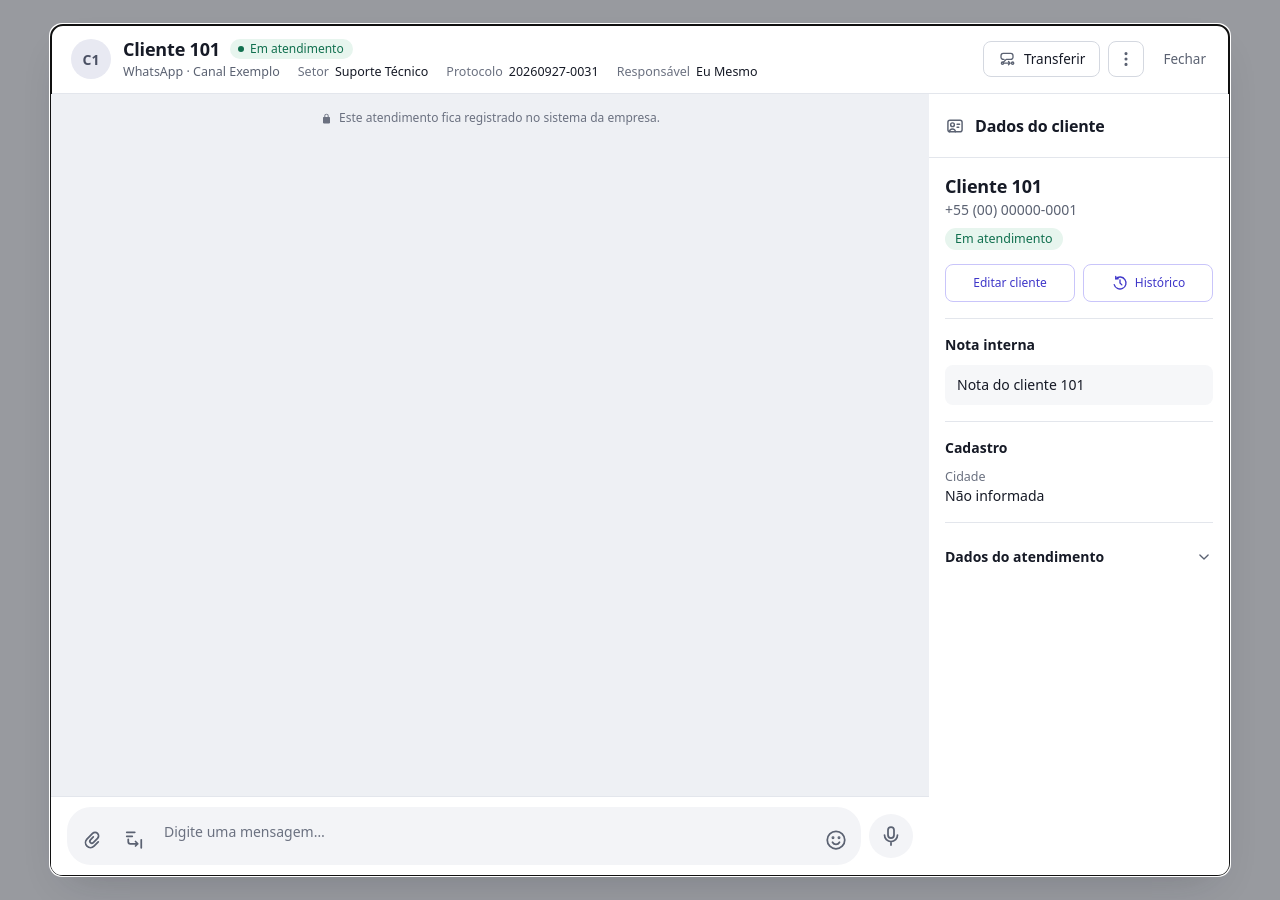
Scenario: revisão: compositor, menu e foco dentro do popup › Escape com Respostas rápidas abertos fecha só o popover: o popup e o rascunho ficam
The image size is (1280, 900).
In the text box with placeholder "Digite uma mensagem…": x=485, y=836 [156,812,814,860], type "rascunho importante"
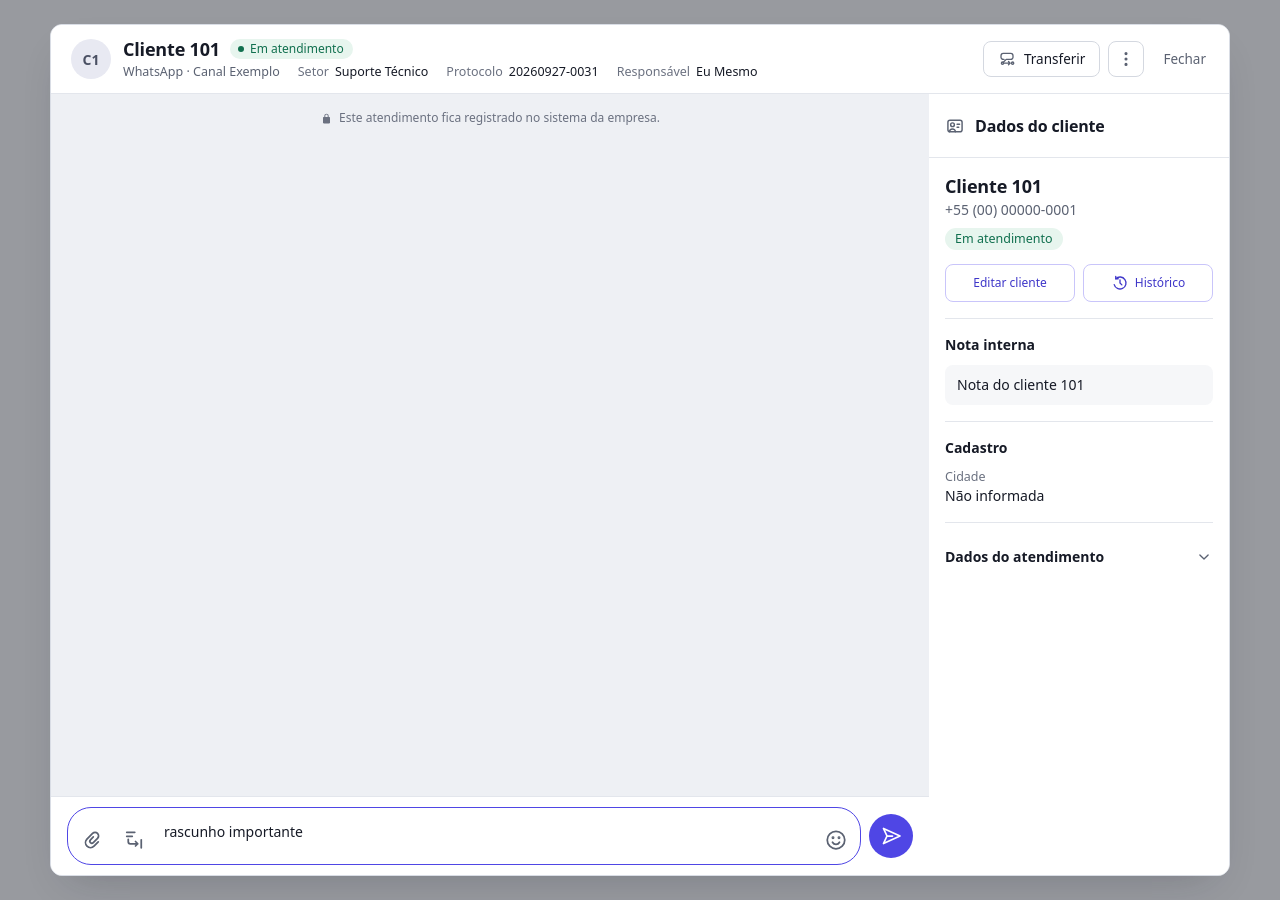
Click the button named "Respostas rápidas": x=134, y=840 [114,820,154,860]
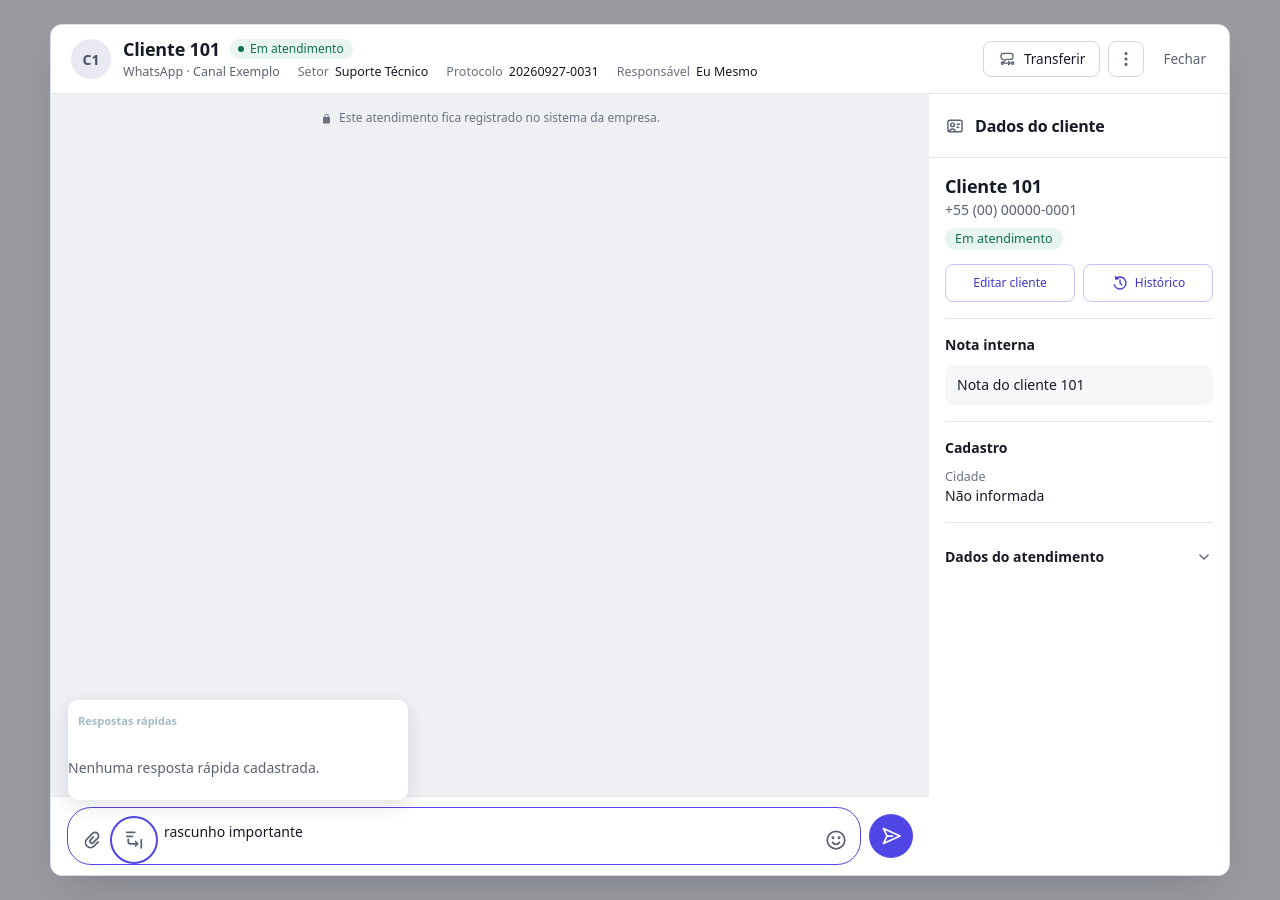
Result: the menu with id "composer-respostas" is shown at [68,700,408,800]
Press Escape
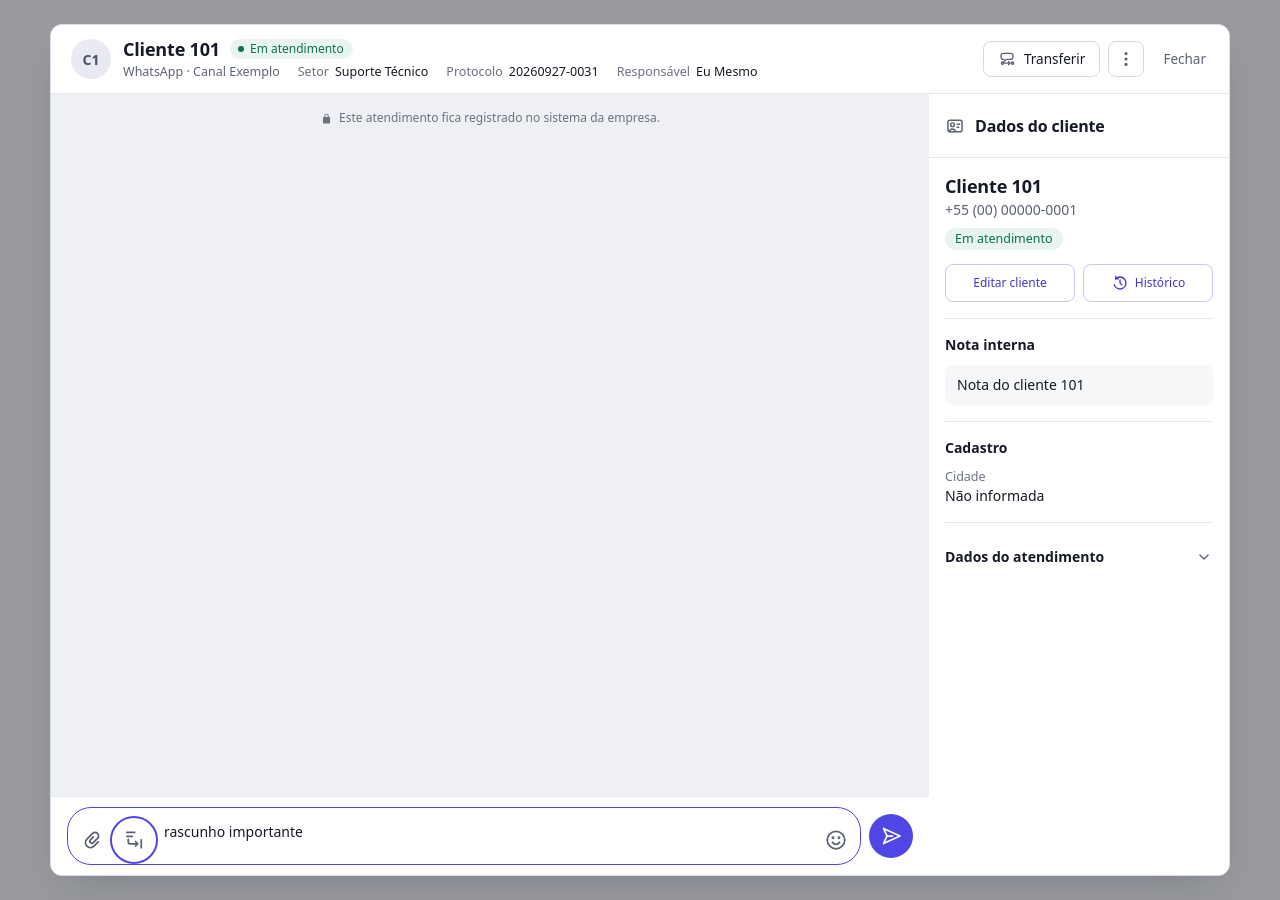
Result: the menu with id "composer-respostas" is gone
